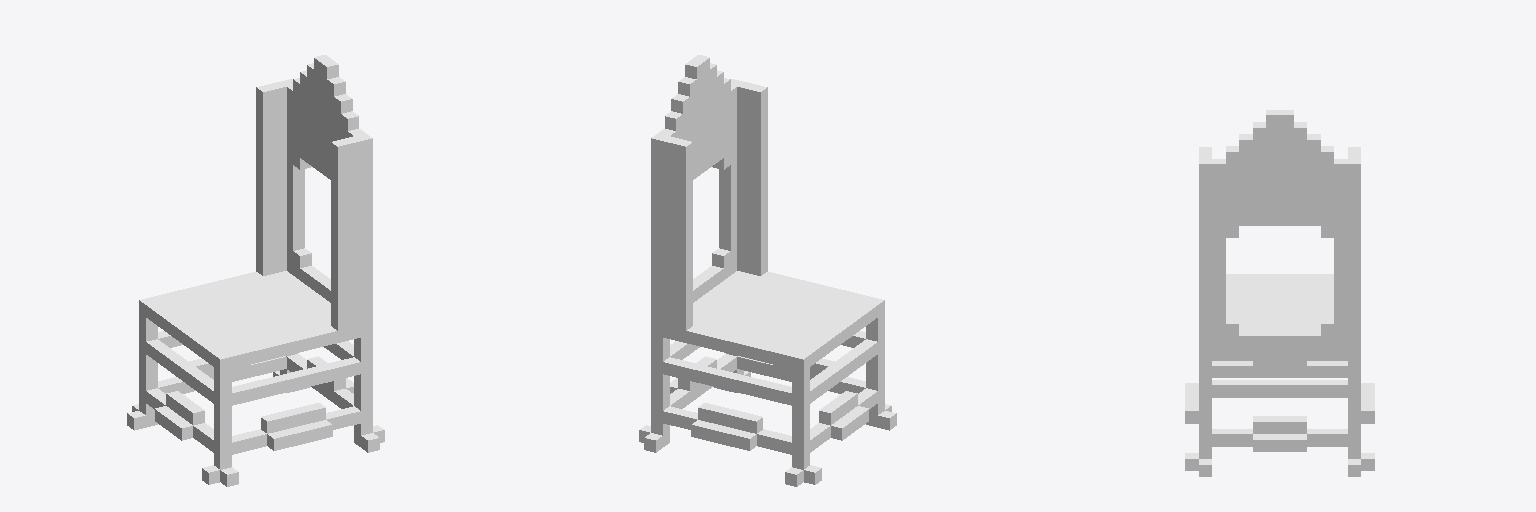
Rendered from chair2.obj.
The picture shows the model from 3 angles: view 1: azimuth 30°, elevation 25°; view 2: azimuth 150°, elevation 25°; view 3: azimuth 270°, elevation 25°; orthographic projection.
Parts seen in each view (by area): view 1: object 1; view 2: object 1; view 3: object 1.
Part boxes in pixels (x1,y1,x2,y2): object 1: (127, 55, 384, 486); object 1: (639, 55, 896, 486); object 1: (1185, 110, 1374, 476).
Size of the model in its own units: 1.5 by 2.9 by 1.4.